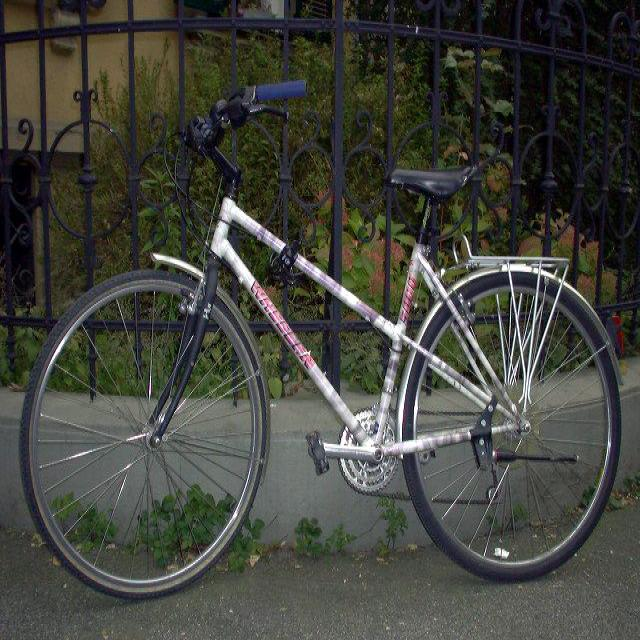bicycle: (18, 80, 622, 599)
